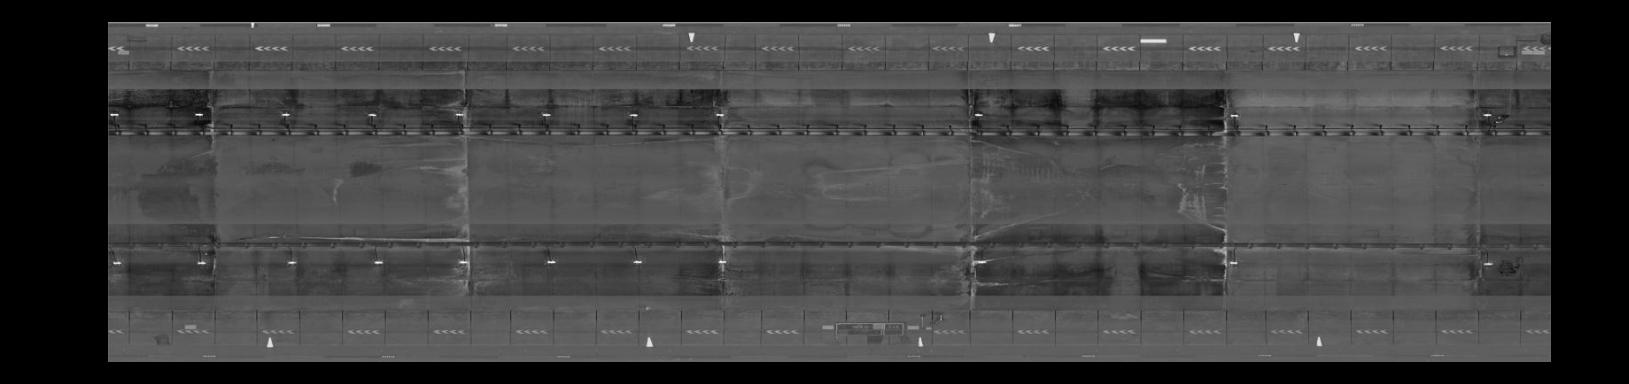light: (284, 257, 302, 269), (627, 256, 646, 268), (624, 107, 640, 120), (278, 109, 297, 119), (450, 110, 469, 120), (1224, 258, 1244, 268), (711, 257, 732, 266), (364, 110, 382, 119), (191, 110, 208, 120), (973, 257, 994, 266), (1225, 111, 1241, 121), (193, 259, 213, 268), (1479, 109, 1495, 119), (538, 110, 555, 119), (712, 110, 728, 119), (973, 109, 986, 120), (111, 257, 125, 268), (455, 258, 472, 267), (108, 109, 121, 119), (542, 257, 558, 266), (1480, 260, 1496, 269), (370, 259, 388, 266)
